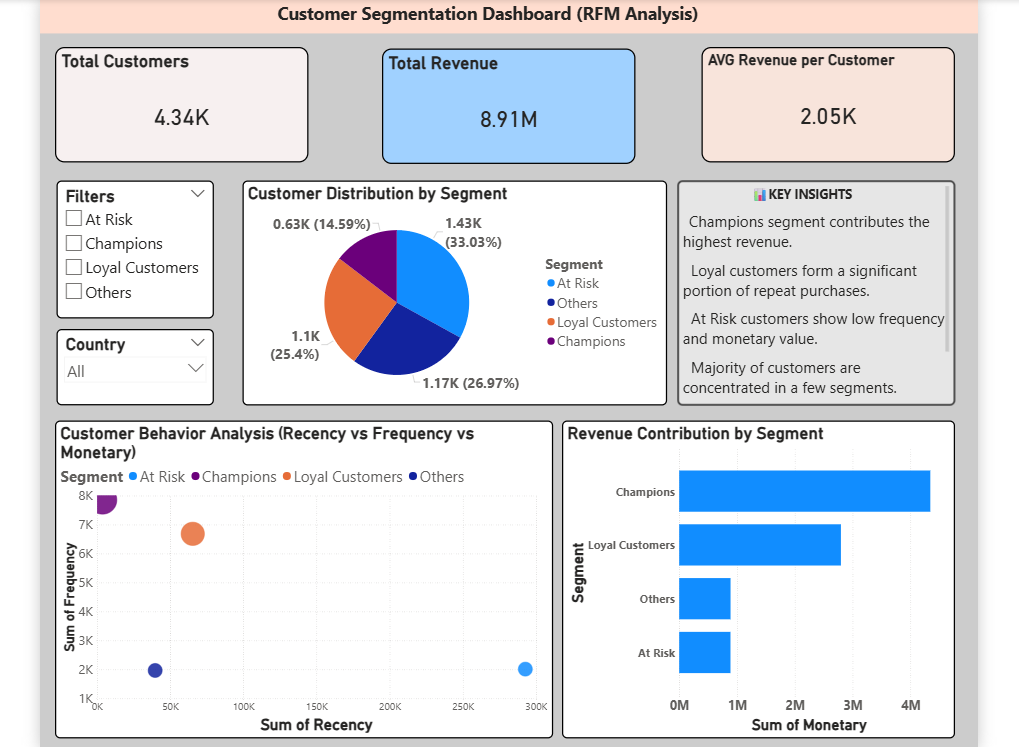

Layout of this report page (visuals, bound fields, positions):
{"tool":"powerbi","page":{"name":"Customer Segmentation Dashboard (RFM Analysis)","canvas":[2000,1600],"ordinal":0},"visuals":[{"type":"card","title":"Total Customers","fields":{"Values":["Count(customer.CustomerID)"]},"box":[32,102.3,540,246.1],"z":0},{"type":"card","title":"Total Revenue ","fields":{"Values":["Sum(customer.Monetary)"]},"box":[728.6,105.5,540.1,246.1],"z":1000},{"type":"card","title":"AVG Revenue per Customer","fields":{"Values":["Avg(customer.Monetary)"]},"box":[1409.4,102.3,540.1,246.1],"z":2000},{"type":"pieChart","title":"Customer Distribution by Segment","fields":{"Category":["customer.Segment"],"Y":["CountNonNull(customer.CustomerID)"]},"box":[431.4,386.7,904.4,479.4],"z":3000},{"type":"clusteredBarChart","title":"Revenue Contribution by Segment","fields":{"Category":["customer.Segment"],"Y":["Sum(customer.Monetary)"]},"box":[1112.1,898,837.3,677.5],"z":4000},{"type":"scatterChart","title":"Customer Behavior Analysis (Recency vs Frequency vs Monetary)","fields":{"X":["Sum(customer.Recency)"],"Y":["Sum(customer.Frequency)"],"Size":["Sum(customer.Monetary)"],"Series":["customer.Segment"]},"box":[32,898,1061,677.5],"z":5000},{"type":"textbox","box":[0,0,2000.6,73.5],"z":6000},{"type":"slicer","fields":{"Values":["customer.Segment"]},"box":[35.2,386.7,335.6,294],"z":7000},{"type":"slicer","fields":{"Values":["customer.Country"]},"box":[35.2,703.1,335.6,163],"z":8000},{"type":"textbox","box":[1358.2,386.7,591.2,479.4],"z":9000}]}

Visuals, with their boxes in screenshot pixels (x1, y1, x2, y2):
"Total Customers" card: left=68, top=52, right=316, bottom=165
"Total Revenue " card: left=388, top=54, right=636, bottom=167
"AVG Revenue per Customer" card: left=701, top=52, right=949, bottom=165
"Customer Distribution by Segment" pieChart: left=251, top=183, right=667, bottom=403
"Revenue Contribution by Segment" clusteredBarChart: left=564, top=418, right=949, bottom=729
"Customer Behavior Analysis (Recency vs Frequency vs Monetary)" scatterChart: left=68, top=418, right=555, bottom=729
textbox: left=53, top=5, right=973, bottom=39
slicer - customer.Segment: left=69, top=183, right=223, bottom=318
slicer - customer.Country: left=69, top=328, right=223, bottom=403
textbox: left=677, top=183, right=949, bottom=403
